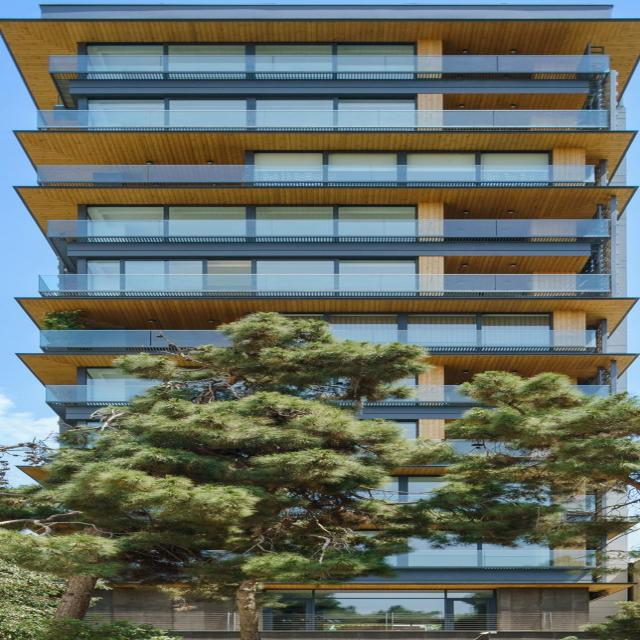Railing: (32, 110, 615, 131), (37, 275, 615, 296), (52, 220, 611, 241), (33, 166, 596, 185), (50, 54, 612, 73), (90, 612, 614, 630), (41, 331, 226, 350), (348, 331, 596, 345), (403, 551, 600, 567), (45, 384, 154, 402)
door: (444, 597, 498, 612), (262, 598, 318, 611)
plant: (5, 315, 639, 640)
wall: (0, 7, 639, 636)
windows: (77, 204, 426, 220), (257, 150, 555, 168), (254, 590, 490, 611), (317, 313, 560, 332), (81, 261, 416, 273), (90, 98, 424, 110), (84, 44, 422, 54)
